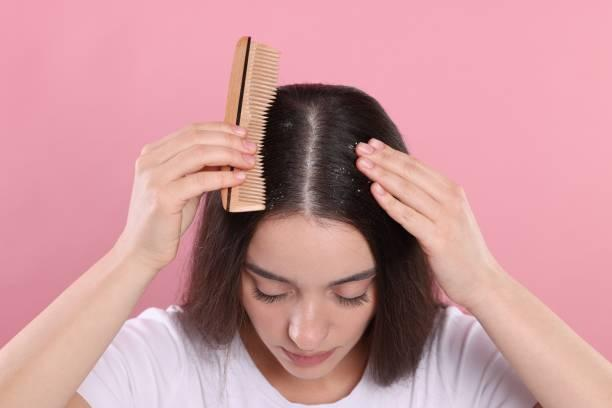dandruff: (336, 141, 364, 207), (271, 178, 292, 203), (275, 116, 296, 132)
